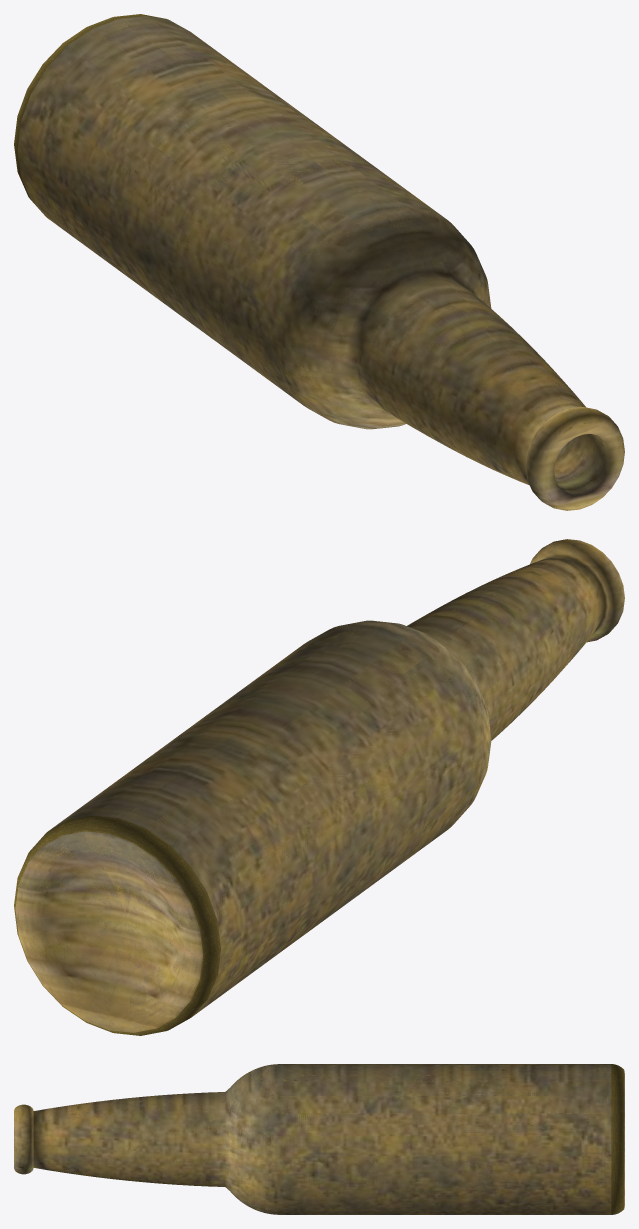
File: model_align.obj
3 views of the same model, one above another, from view 1: azimuth 30°, elevation 25°; view 2: azimuth 150°, elevation 25°; view 3: azimuth 270°, elevation 25° (orthographic). The views are drawn at different scales.
Visible parts, largest first — view 1: mesh1_mesh1-geometry; view 2: mesh1_mesh1-geometry; view 3: mesh1_mesh1-geometry.
Boxes of the visible parts, <box> form: mesh1_mesh1-geometry: <box>14,14,624,510</box>; mesh1_mesh1-geometry: <box>14,539,624,1035</box>; mesh1_mesh1-geometry: <box>14,1064,624,1214</box>.
Size of the model in its own units: 0.0348 by 0.0348 by 0.1403.
